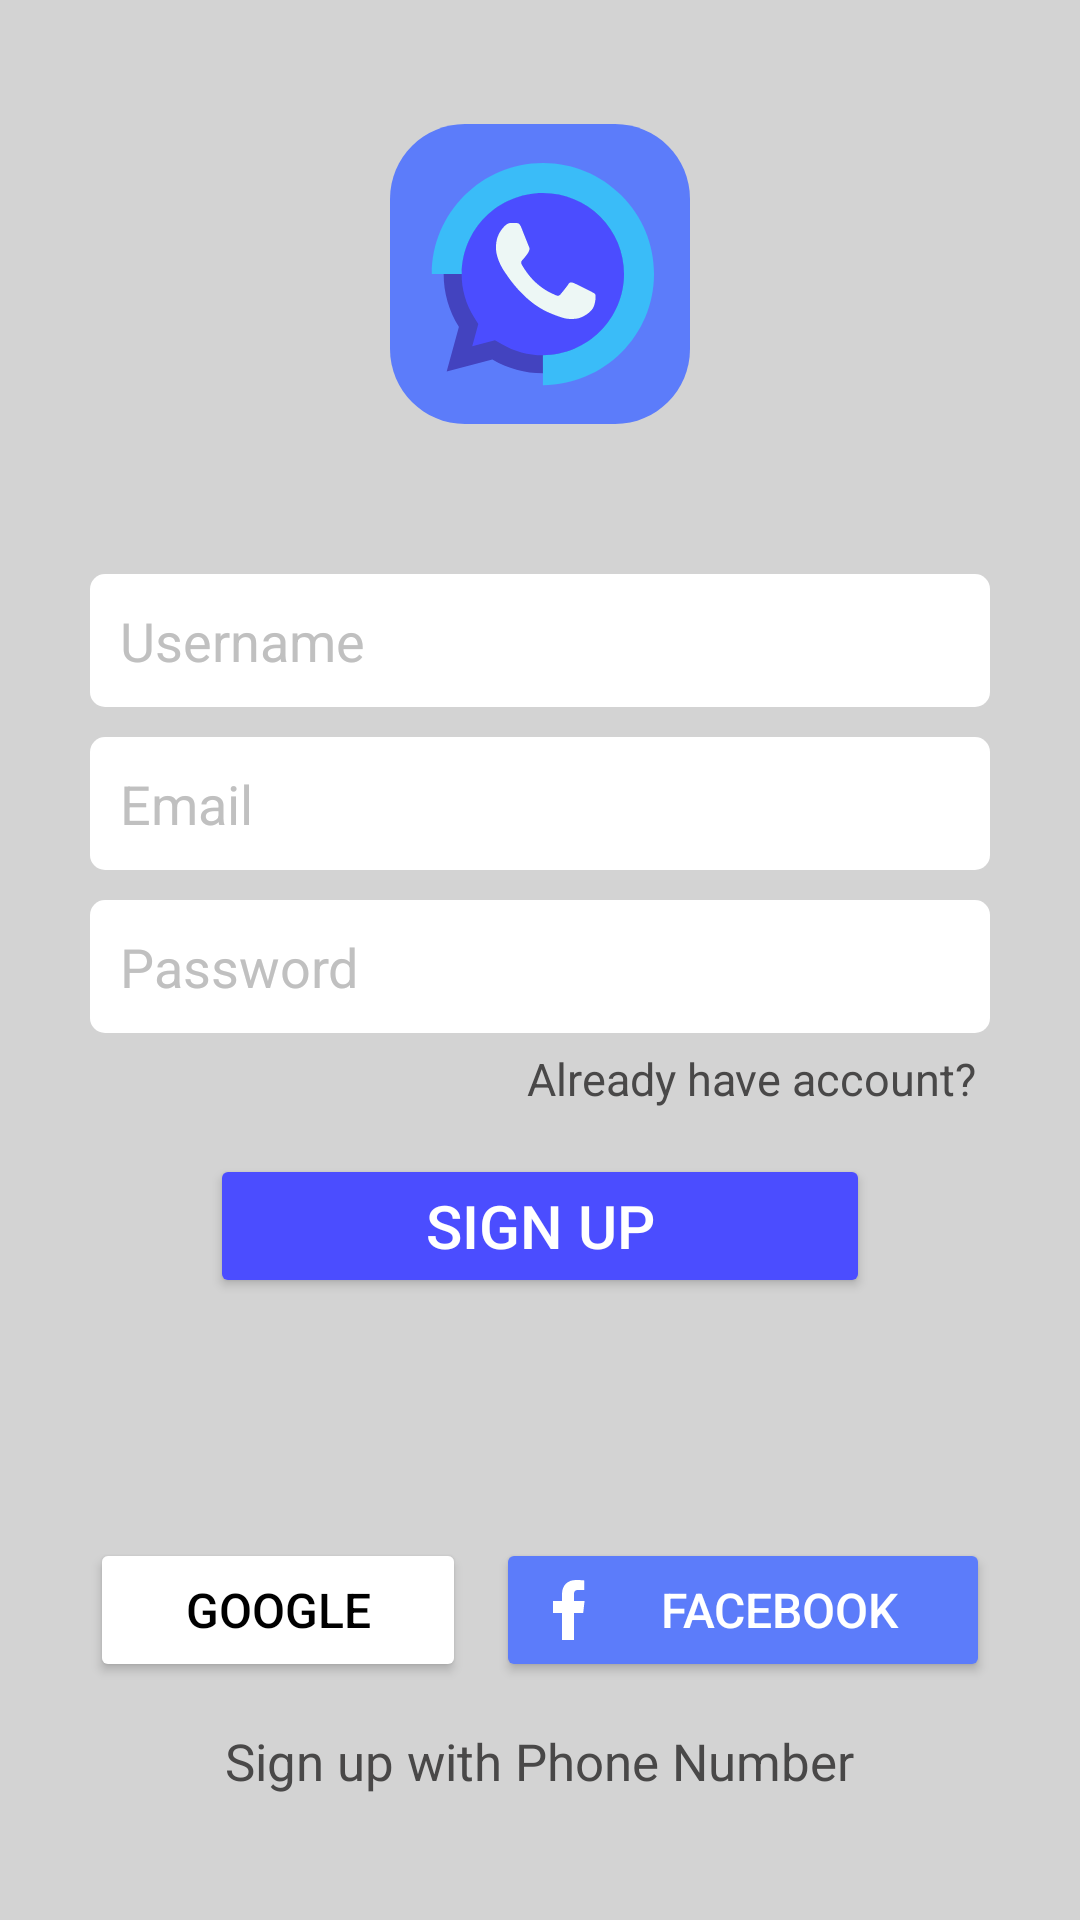

Locate icon controls on the screen. Image size 1080px×1920px, boxes as Rect(x1, y1, x2, y2).
chatmingle: Rect(390, 124, 690, 424)
